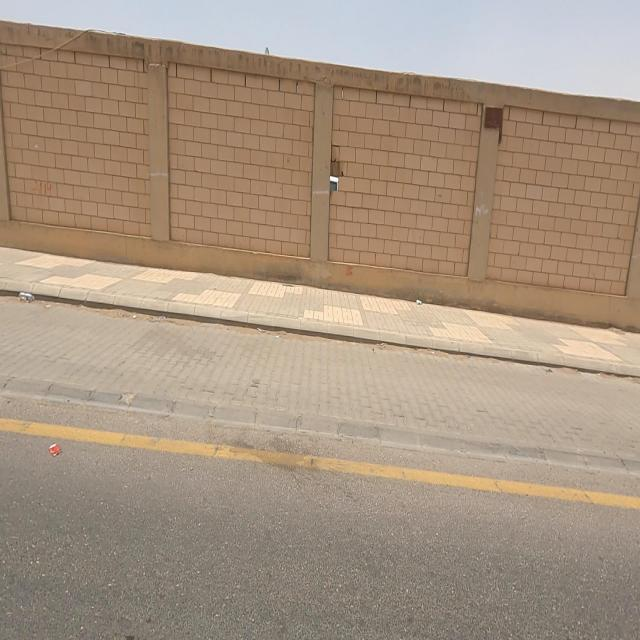debris: (19, 405, 96, 498), (393, 274, 438, 324)
